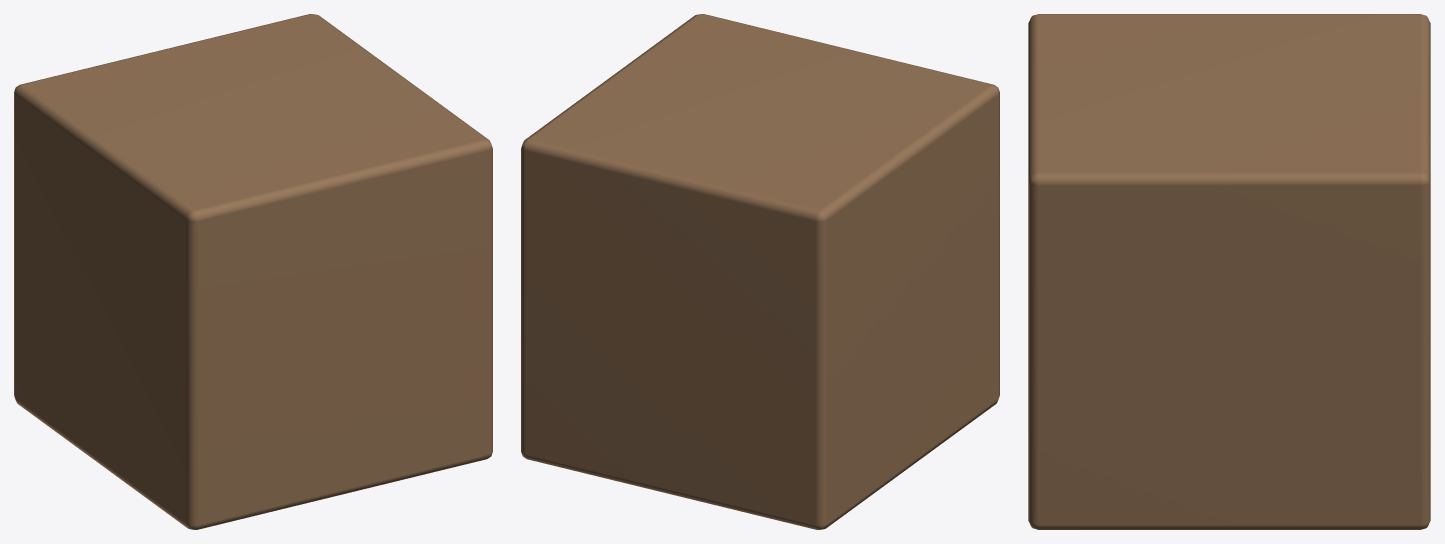
The model's file is Scrap.glb.
3 views of the same model, side by side, from view 1: azimuth 30°, elevation 25°; view 2: azimuth 150°, elevation 25°; view 3: azimuth 270°, elevation 25° (orthographic). The views are drawn at different scales.
Parts seen in each view (by area): view 1: solid wall; view 2: solid wall; view 3: solid wall.
Boxes of the visible parts, <box> form: solid wall: <box>14,14,492,529</box>; solid wall: <box>521,14,999,529</box>; solid wall: <box>1028,14,1430,529</box>.
Size of the model in its own units: 0.96 by 0.96 by 0.98.
